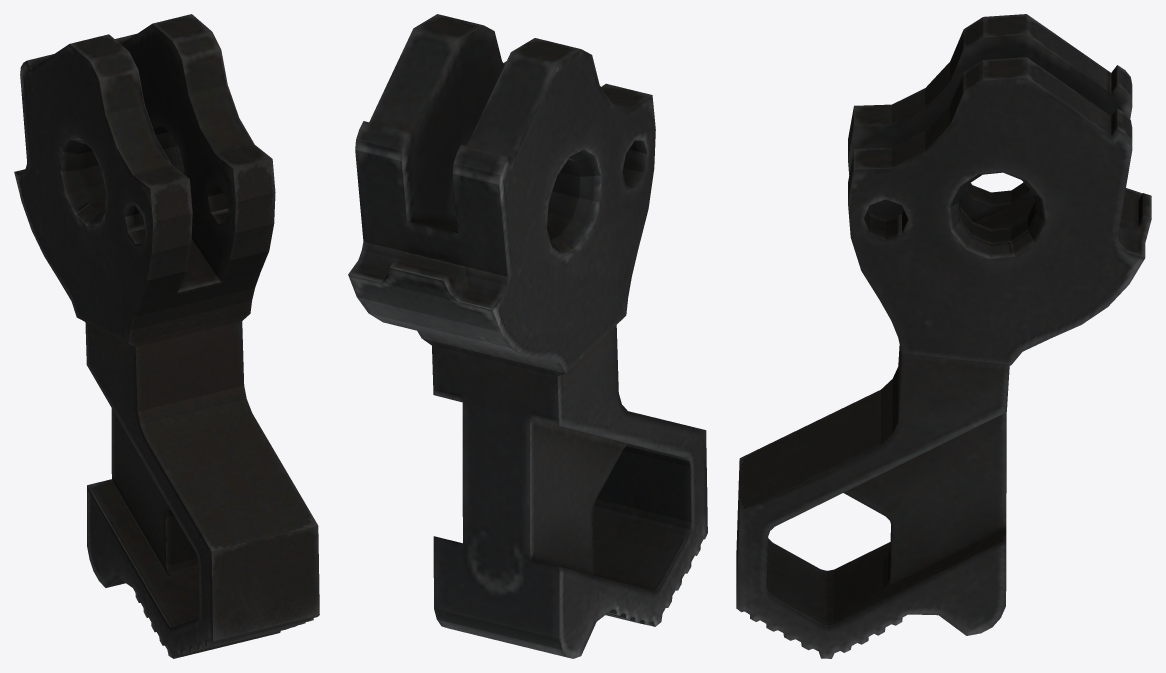
The picture shows the model from 3 angles, left to right: view 1: azimuth 30°, elevation 25°; view 2: azimuth 150°, elevation 25°; view 3: azimuth 270°, elevation 25°; orthographic projection. The views are drawn at different scales.
Parts seen in each view (by area): view 1: TW_5ef35f46382a846010715a96_PZ_Import; view 2: TW_5ef35f46382a846010715a96_PZ_Import; view 3: TW_5ef35f46382a846010715a96_PZ_Import.
Part boxes in pixels (x1,y1,x2,y2): TW_5ef35f46382a846010715a96_PZ_Import: (14, 14, 319, 658); TW_5ef35f46382a846010715a96_PZ_Import: (348, 14, 707, 658); TW_5ef35f46382a846010715a96_PZ_Import: (736, 14, 1151, 658).
Size of the model in its own units: 0.00456 by 0.0125 by 0.0195.
Materials: 1 (1 with a texture image).
